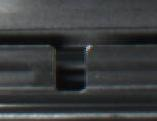oneu: (37, 40, 98, 96)
